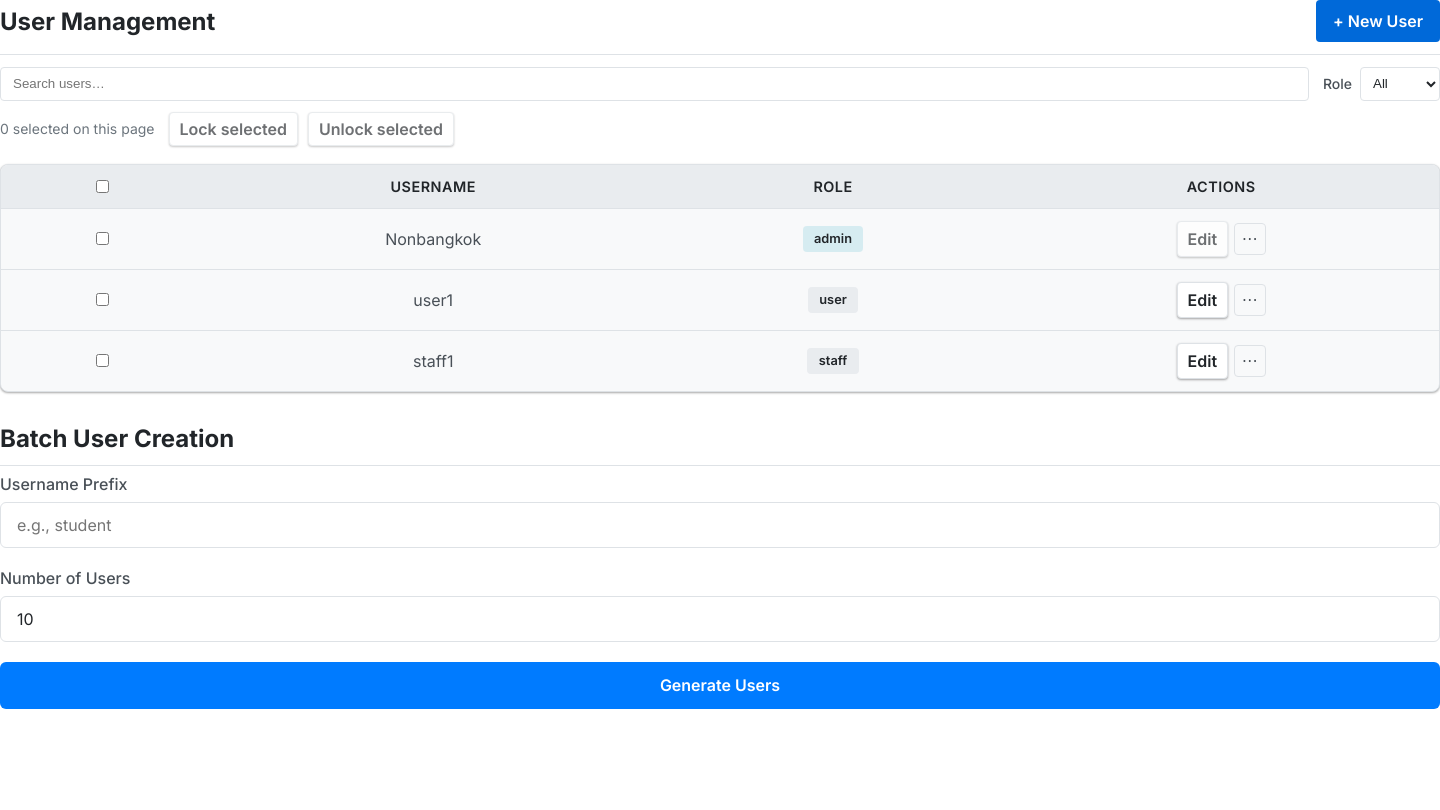
it: UserManagement Component › reports a failed bulk request and retains selection for retry
This screenshot has width=1440, height=810.
Check: the text "user1" is shown, box left=204, top=269, right=663, bottom=330
Click the checkbox named "select user1" at [103, 299], box left=96, top=293, right=109, bottom=306
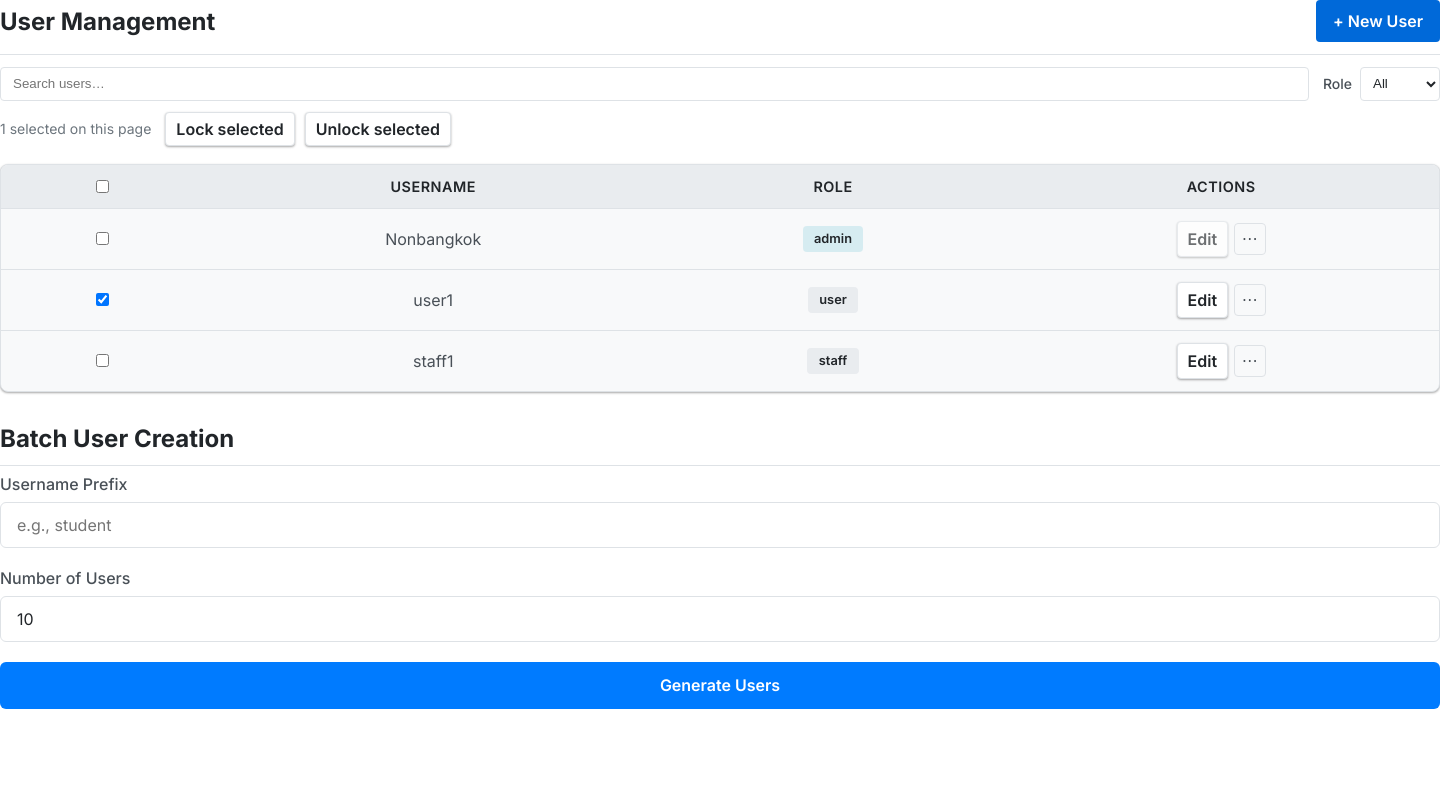
Click the button "Unlock selected" at [378, 129], box left=305, top=112, right=451, bottom=146
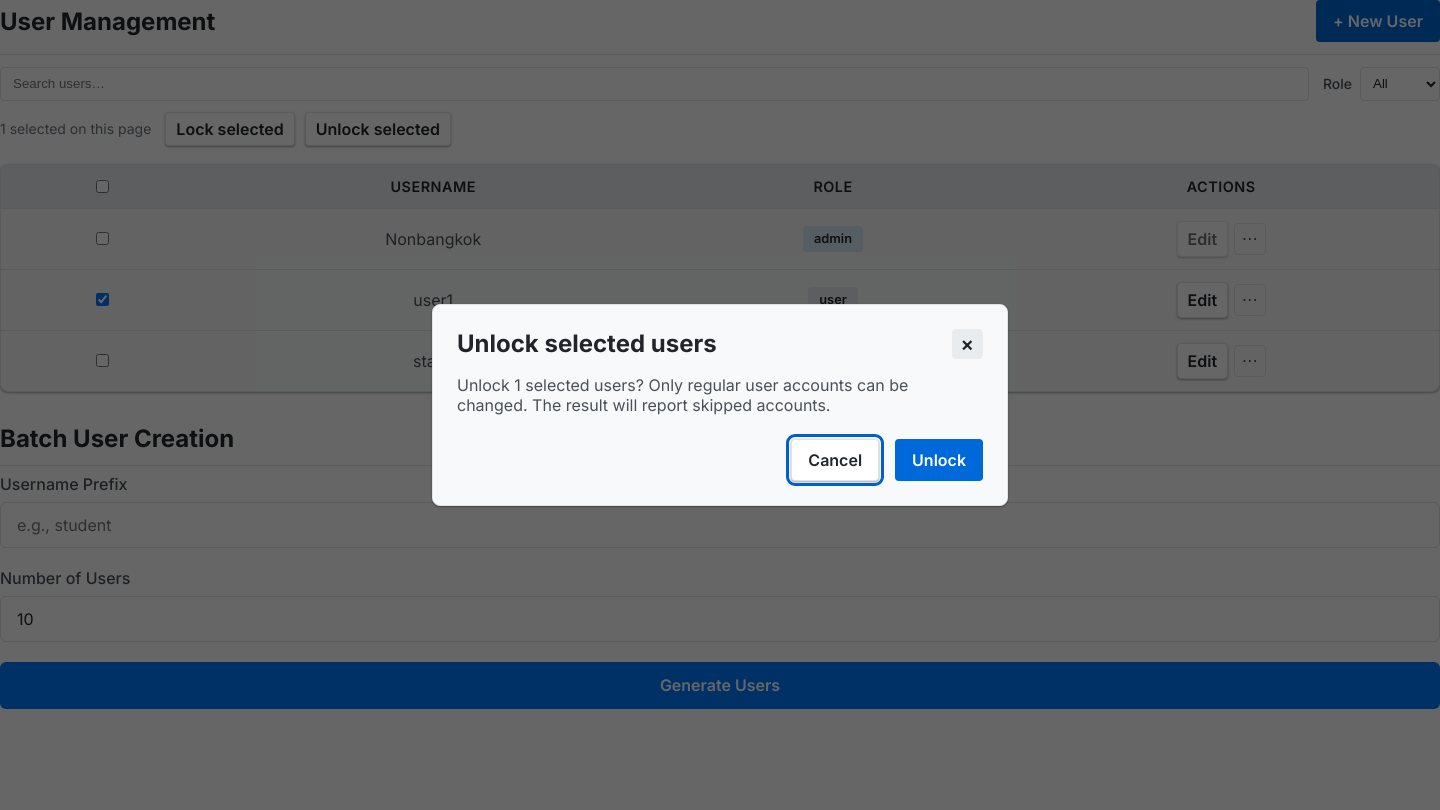
Click the button "Unlock" at [939, 460], box left=895, top=439, right=983, bottom=481
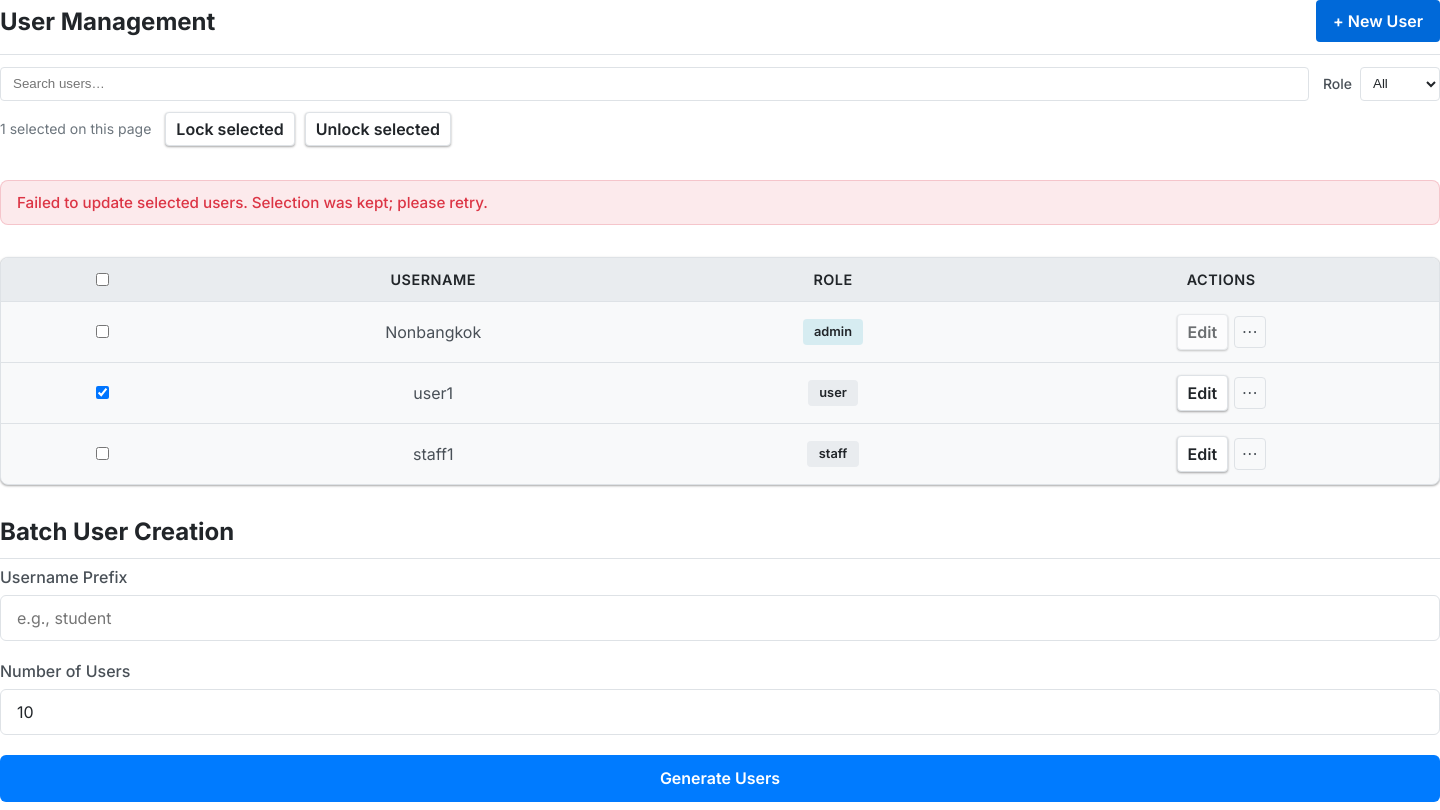
Check: the checkbox named "select user1" is checked, box left=96, top=386, right=109, bottom=399
Check: the message shows "Failed to update selected users", box left=17, top=193, right=488, bottom=212
